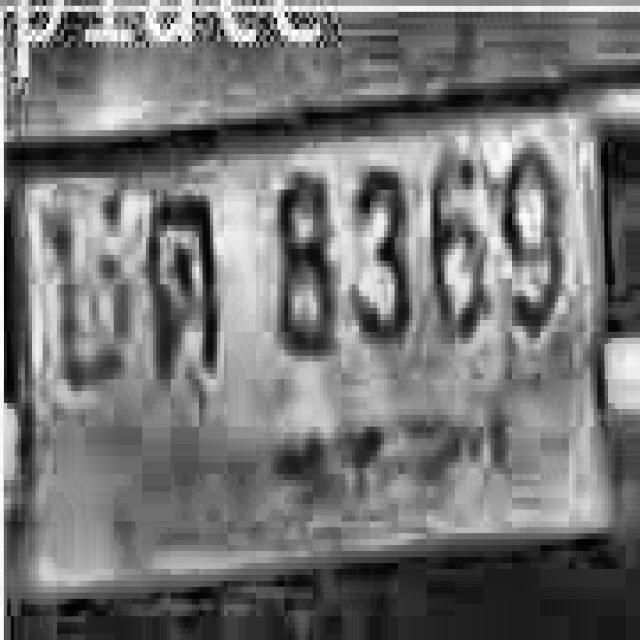license-plate: (5, 77, 640, 628)
